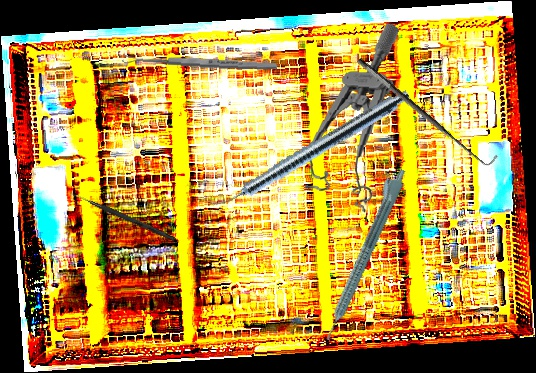Handpiece: (207, 83, 413, 218), (314, 164, 410, 343)
Hook Surgical: (355, 47, 500, 174), (68, 190, 176, 242)
Speculum: (302, 15, 400, 217)
Surgical Spoon: (122, 53, 278, 72)
